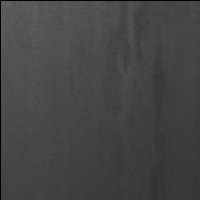inclusion: (103, 4, 142, 192), (146, 33, 174, 200)
